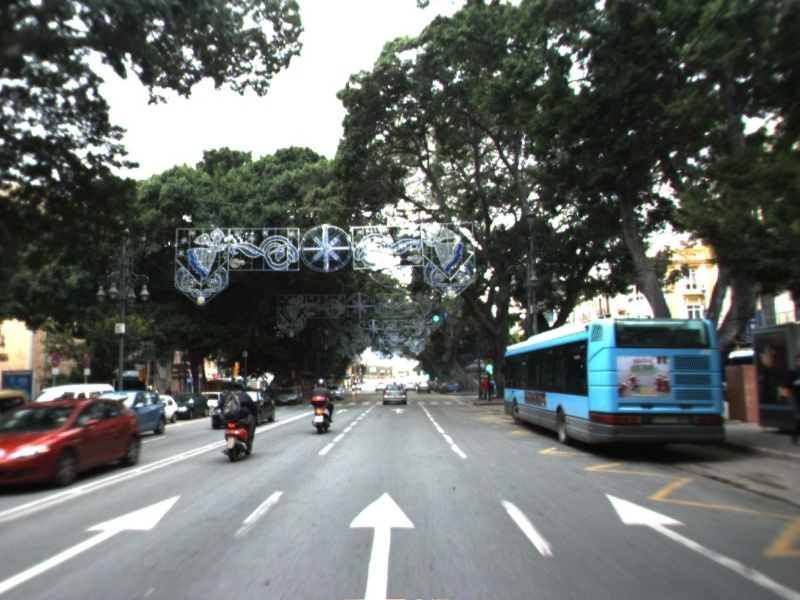STRAIGHT: (601, 488, 799, 600), (1, 490, 185, 593), (345, 487, 420, 600), (388, 406, 409, 415), (334, 407, 350, 416)
